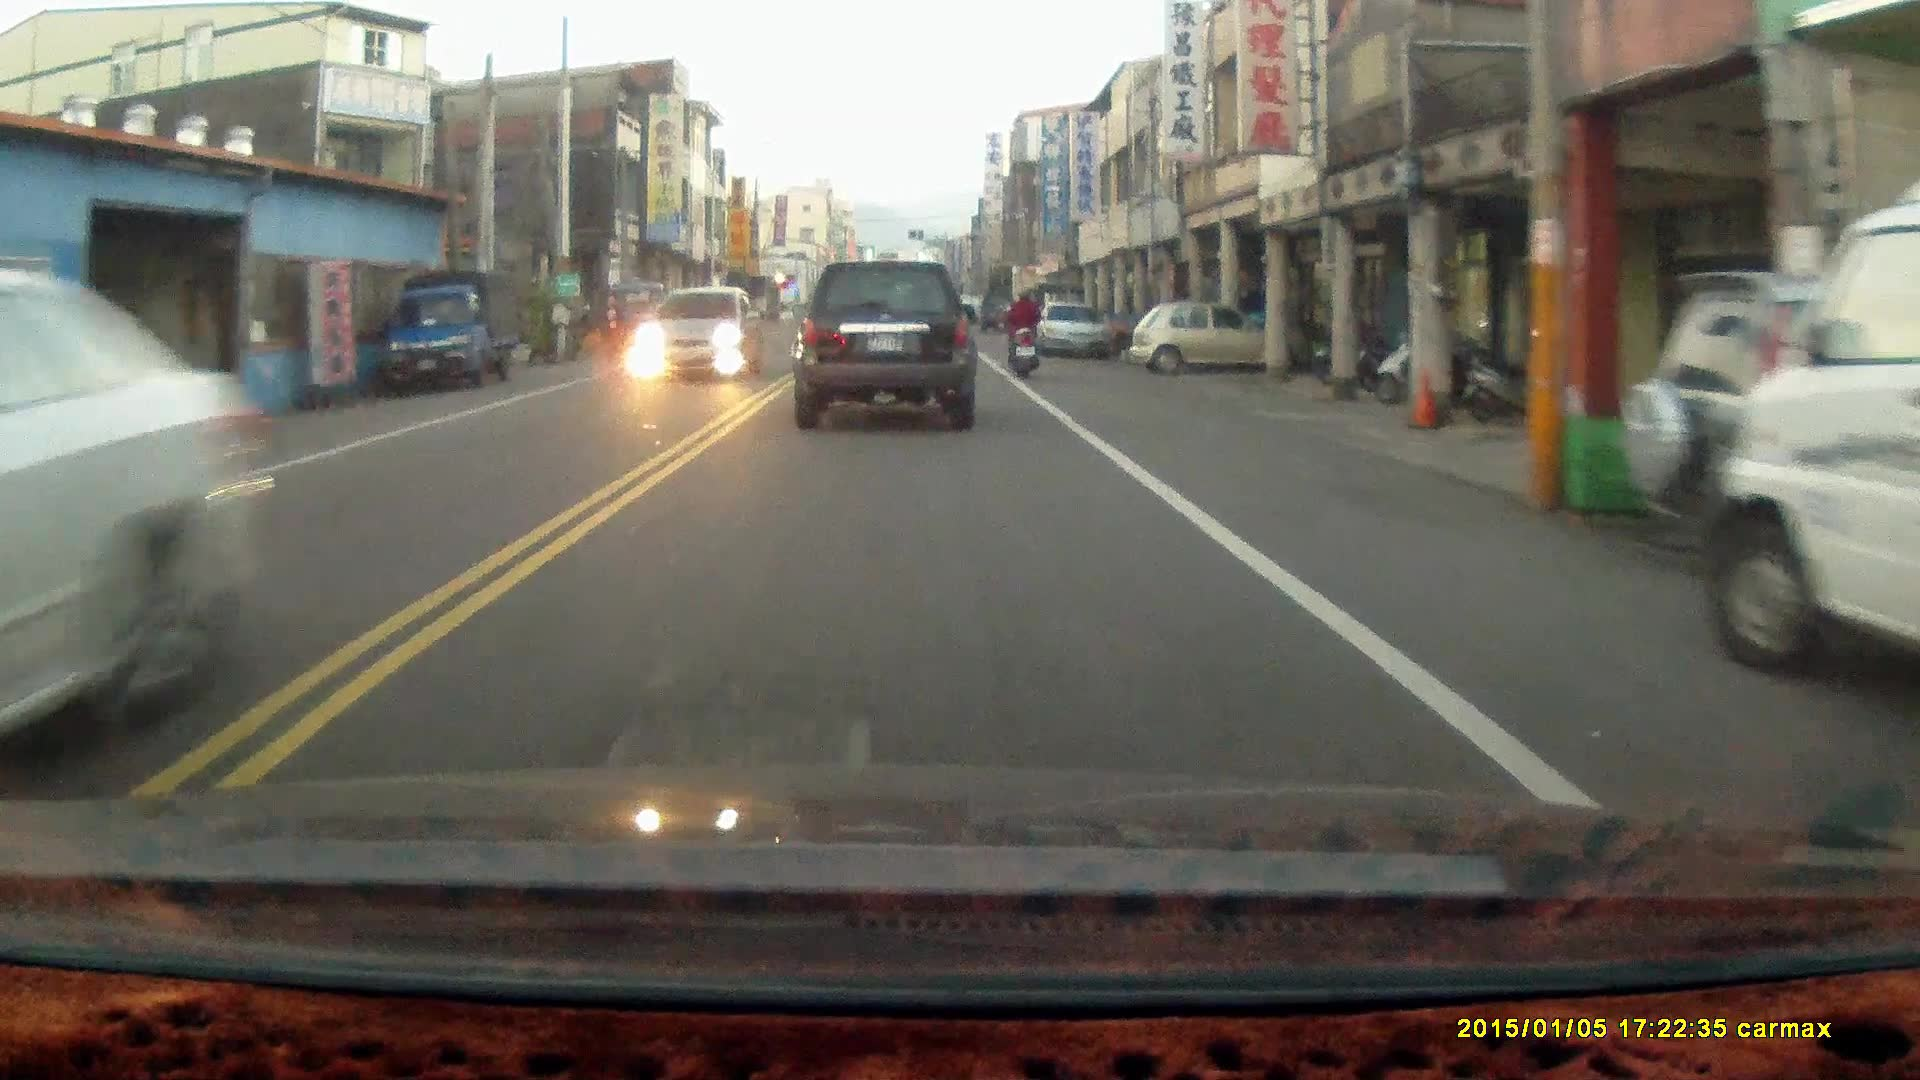pedestrian: (602, 290, 623, 356)
rider: (1005, 285, 1042, 380)
vehicle: (1, 261, 278, 776), (1701, 161, 1920, 712), (1615, 268, 1919, 581), (788, 259, 979, 431), (385, 268, 531, 395), (638, 282, 769, 379), (1132, 300, 1289, 376), (1037, 299, 1112, 362)
